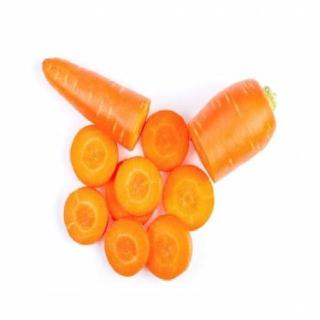carrot: (41, 55, 153, 152), (184, 74, 278, 186)
